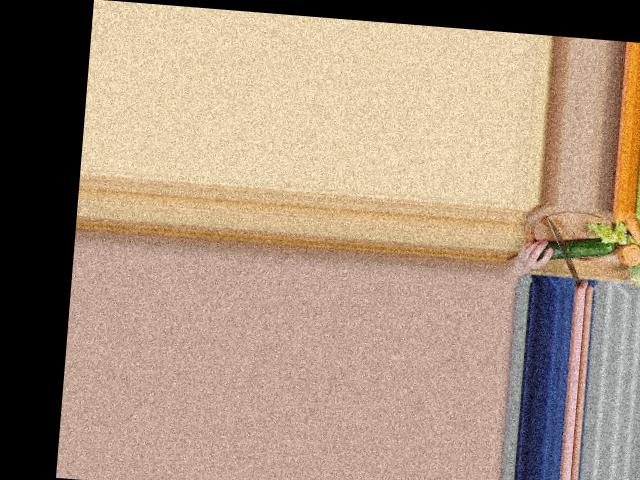cucumber: (538, 234, 616, 264)
